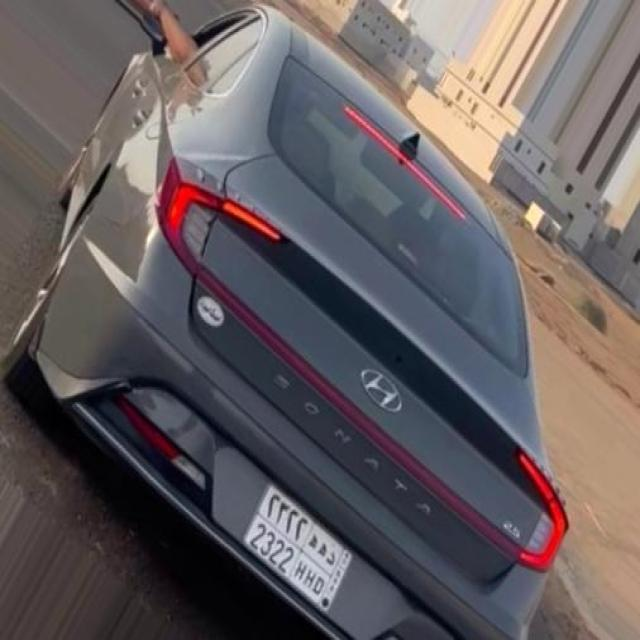Car-plate: (237, 476, 355, 618)
